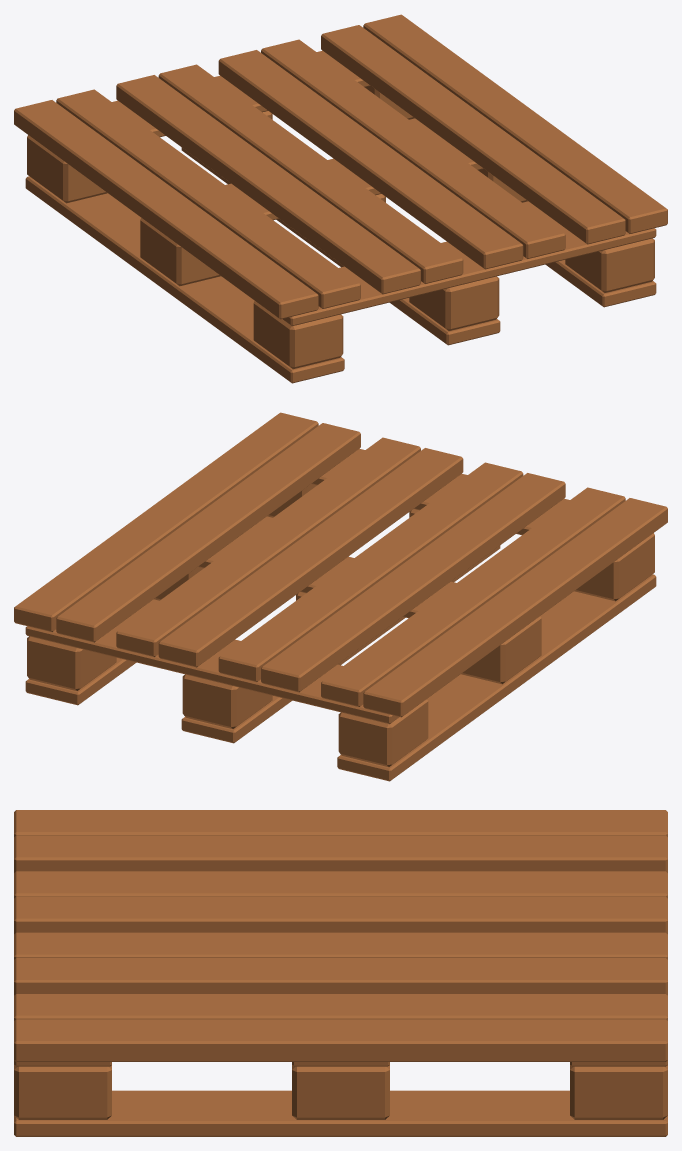
Rendered from prop.pallet.glb.
3 renders of one model, top to bottom at view 1: azimuth 30°, elevation 25°; view 2: azimuth 150°, elevation 25°; view 3: azimuth 270°, elevation 25°, orthographic. The views are drawn at different scales.
Size of the model in its own units: 1.01 by 0.208 by 1.2.
